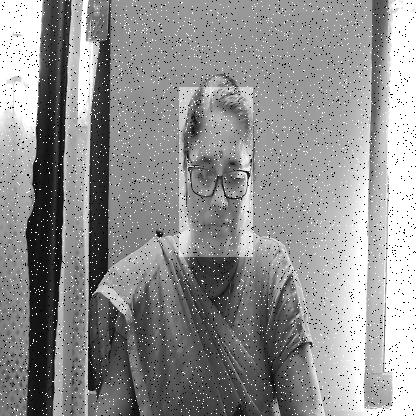Normal: (179, 87, 253, 257)
